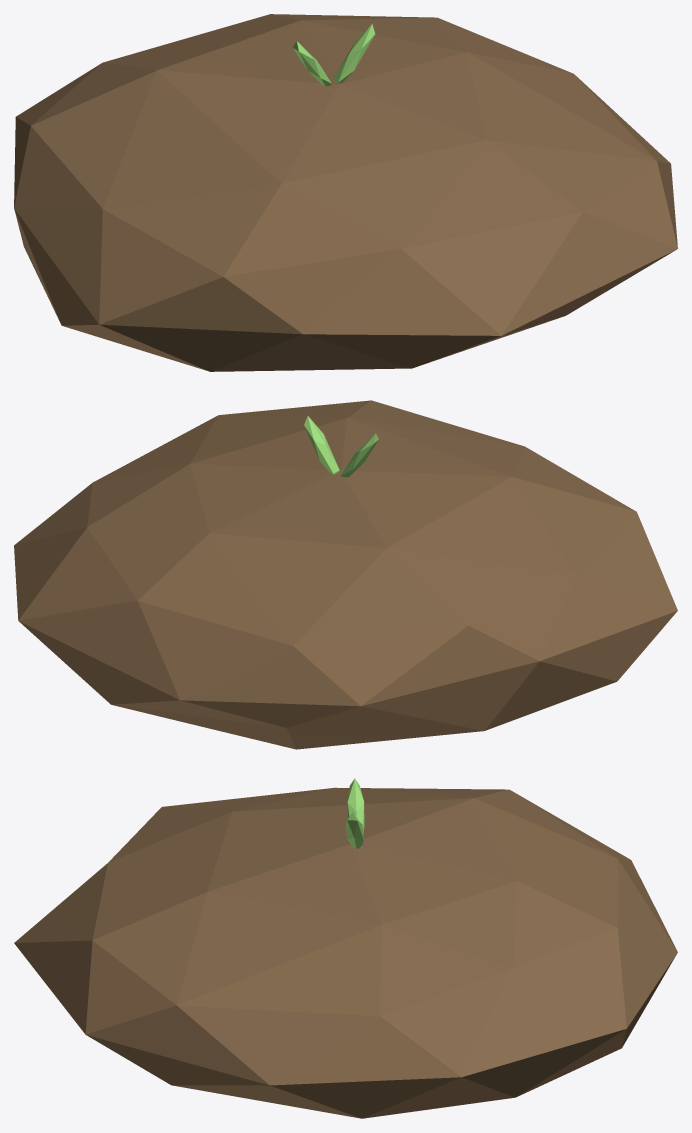
The model's file is mais_1_plante.fbx.
3 renders of one model, top to bottom at view 1: azimuth 30°, elevation 25°; view 2: azimuth 150°, elevation 25°; view 3: azimuth 270°, elevation 25°, orthographic. The views are drawn at different scales.
Visible parts, largest first — view 1: mais_1_plante; view 2: mais_1_plante; view 3: mais_1_plante.
Part boxes in pixels (bbox=[...]): mais_1_plante: bbox=[14, 14, 677, 371]; mais_1_plante: bbox=[14, 400, 677, 749]; mais_1_plante: bbox=[14, 778, 677, 1118].
Size of the model in its own units: 0.9752 by 0.4253 by 1.02.
